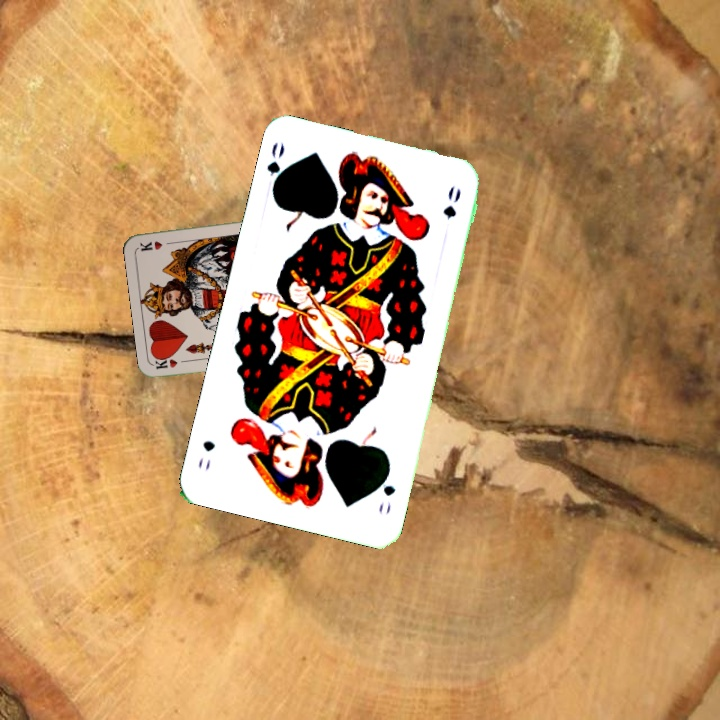GO: (262, 138, 291, 198), (374, 464, 398, 517)
HK: (152, 355, 193, 372)
